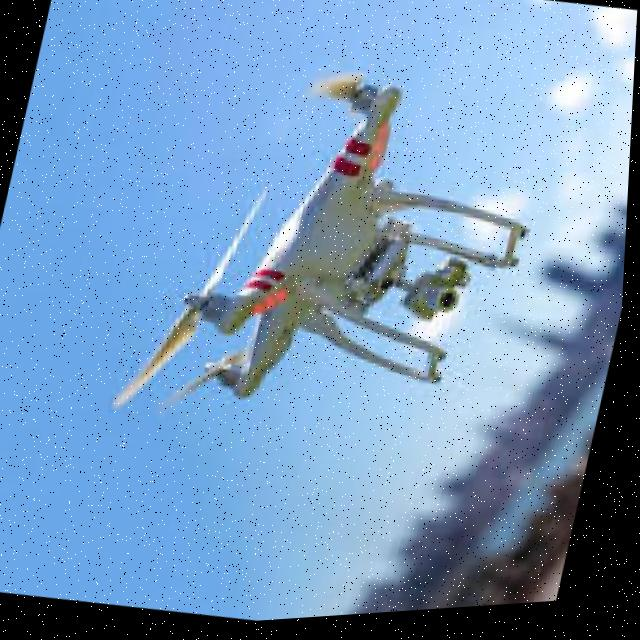drones: (72, 7, 590, 559)
